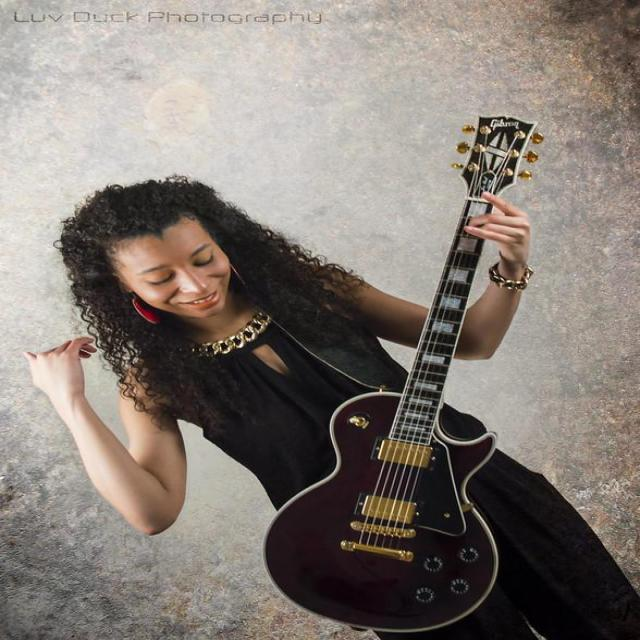guitar: (264, 116, 543, 631)
